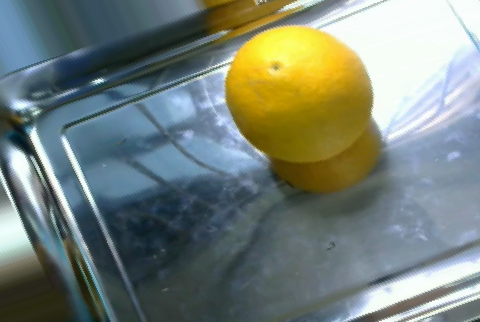Orange: (224, 24, 373, 163)
